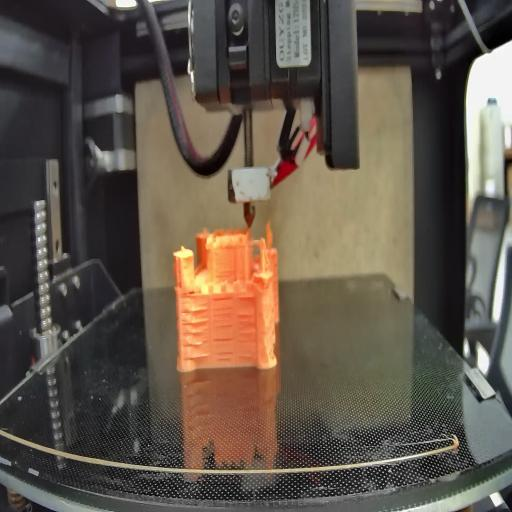cracks: (184, 307, 210, 361), (238, 310, 256, 360), (212, 294, 232, 328), (214, 334, 232, 362), (235, 290, 255, 304), (183, 286, 198, 299), (215, 270, 234, 279)
